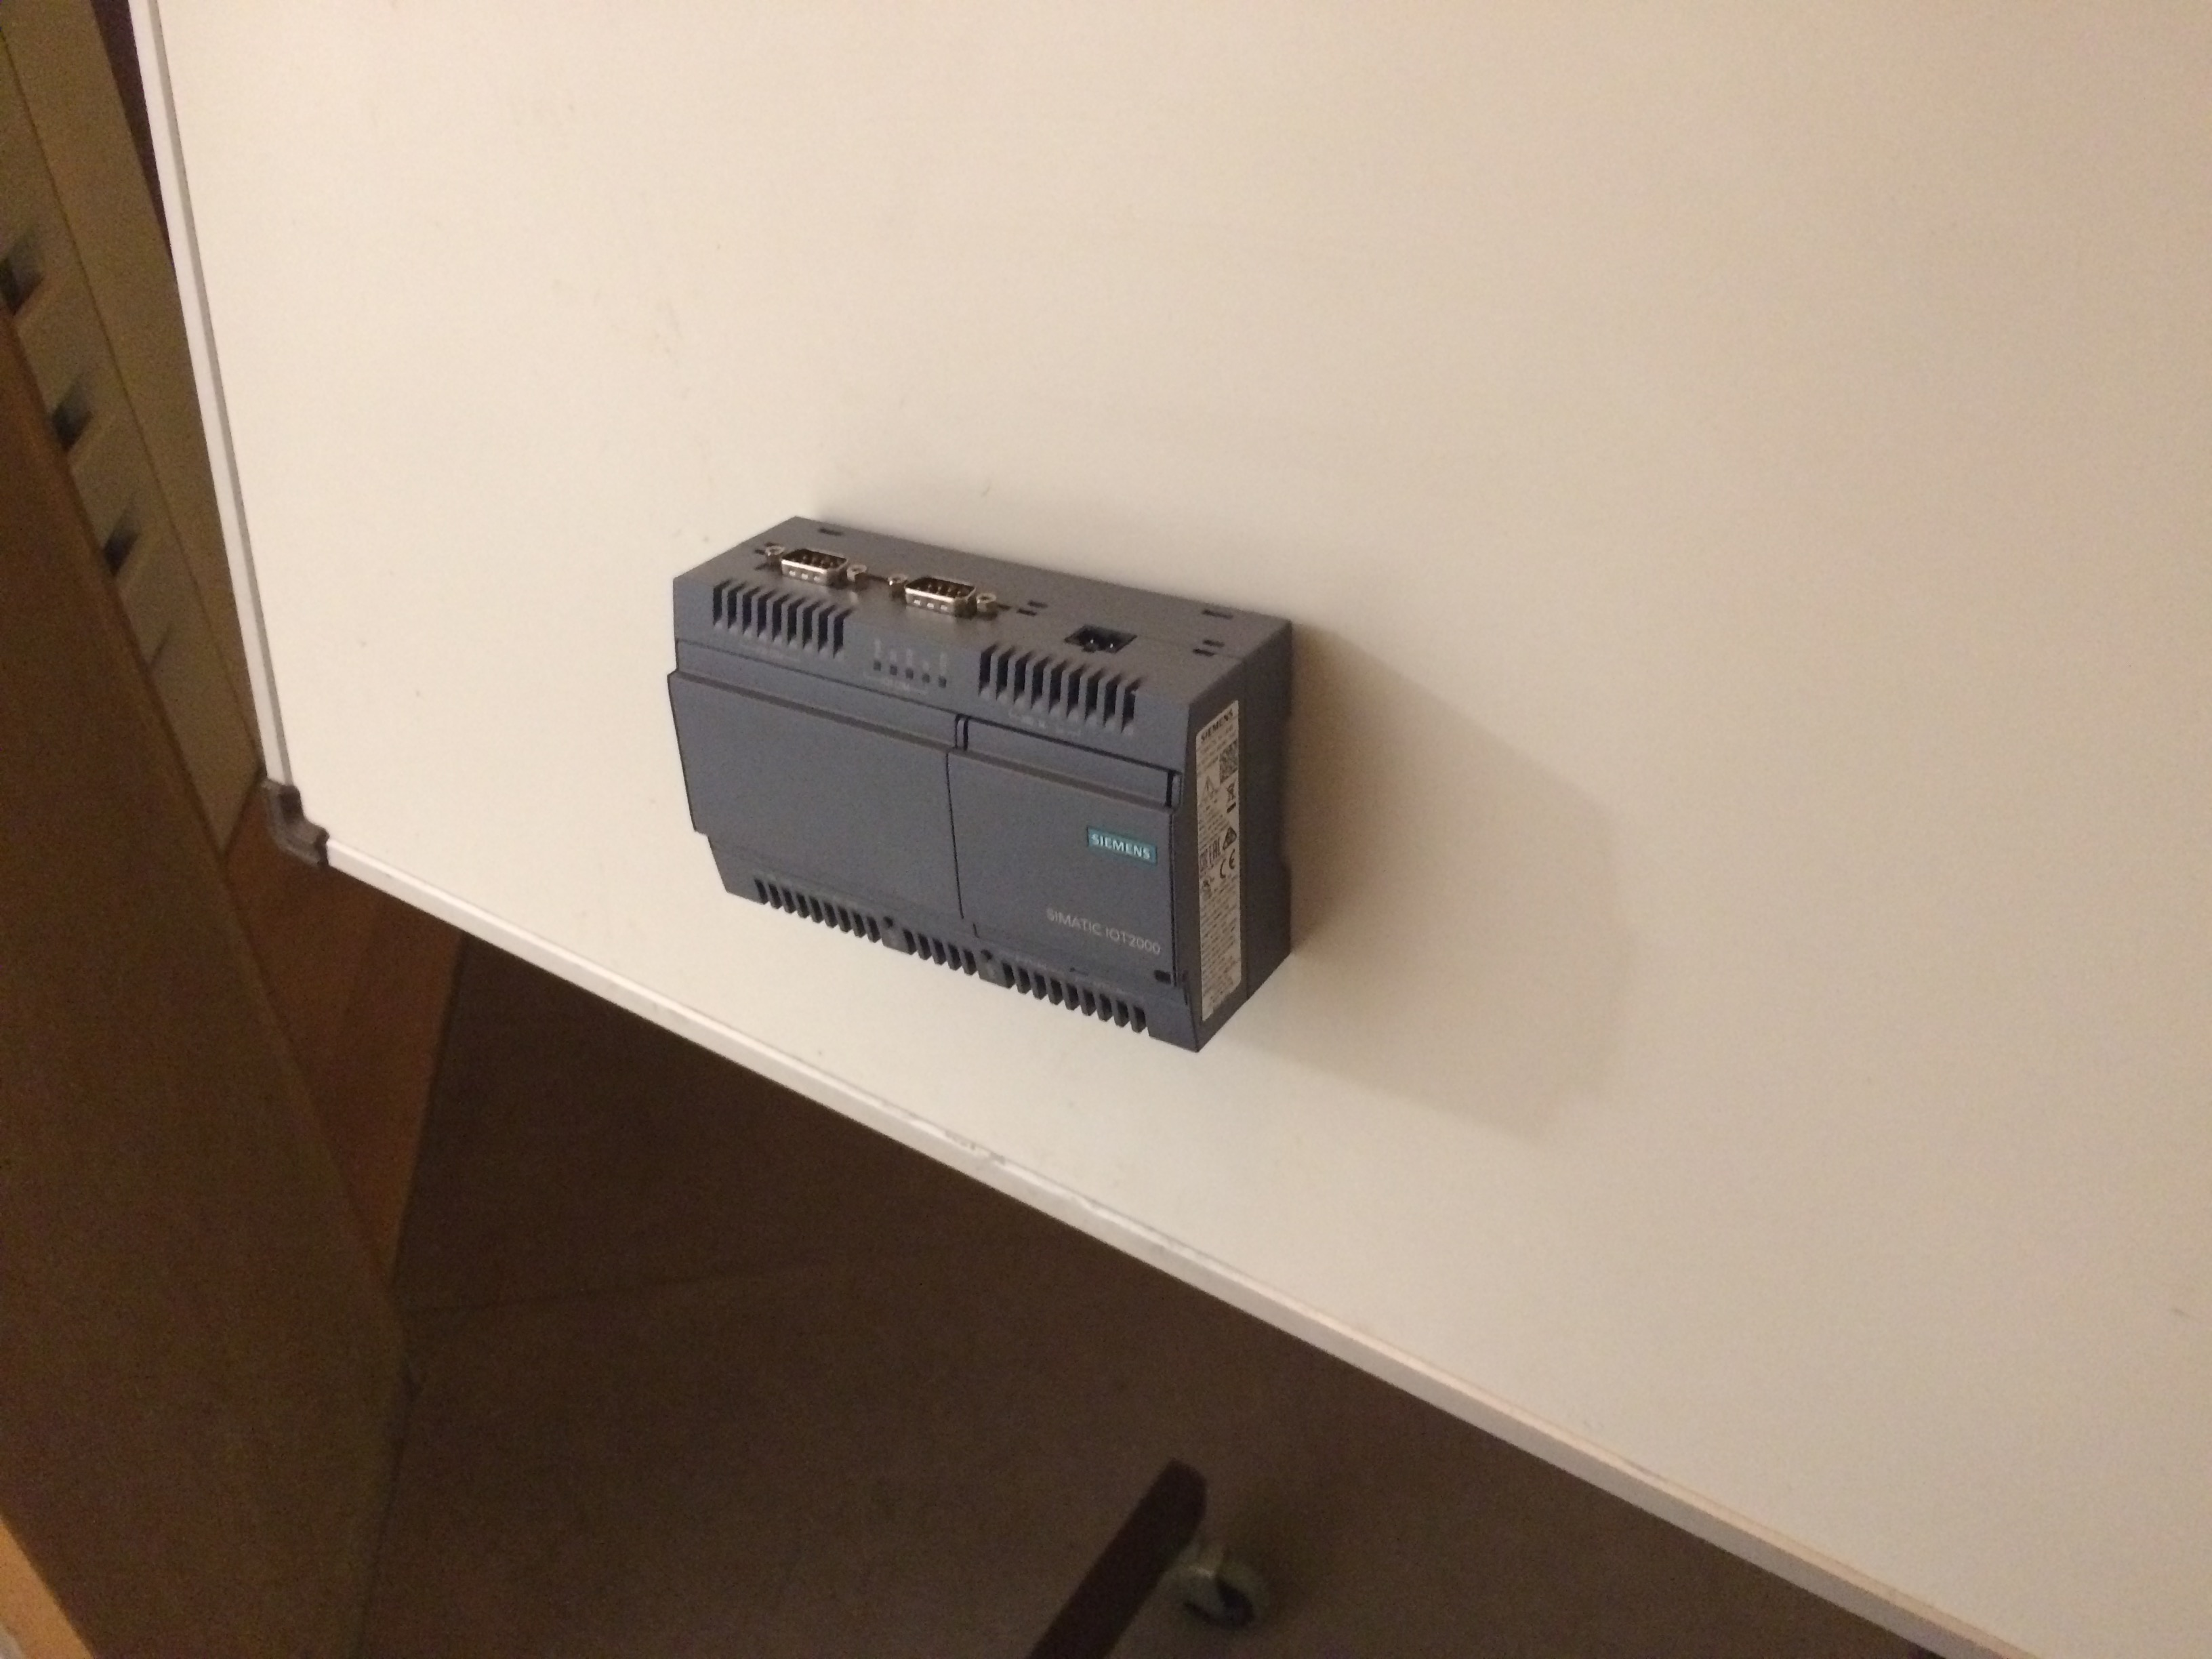iot2000: (662, 512, 1301, 1058)
